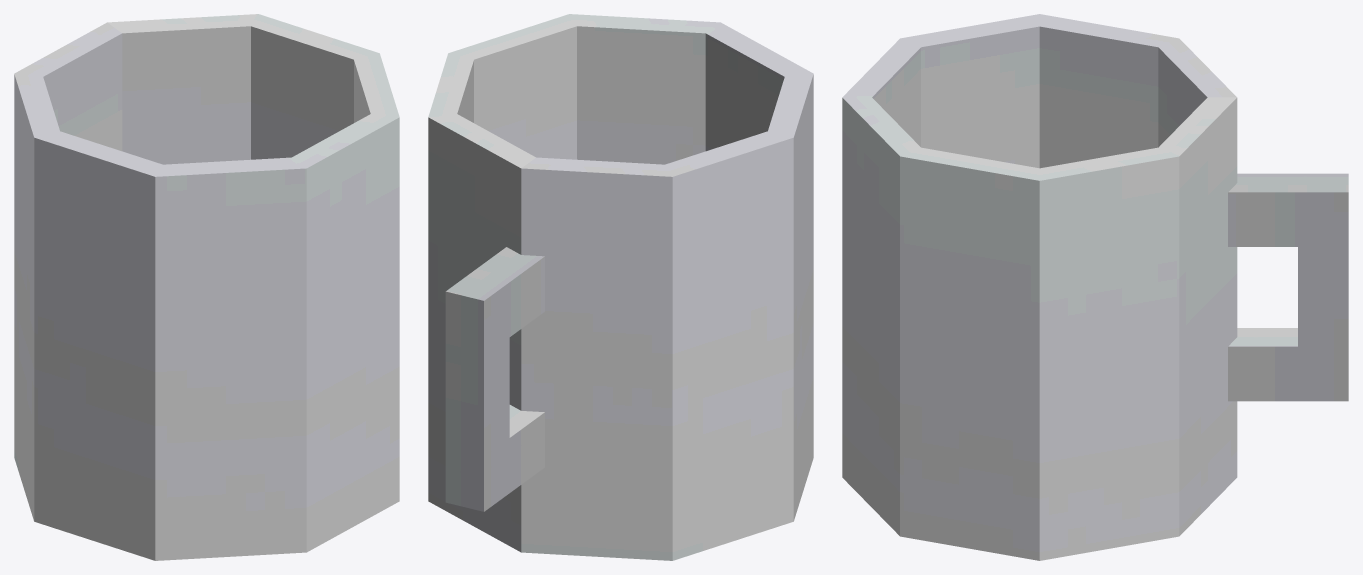
The model's file is cup.glb.
The picture shows the model from 3 angles, left to right: view 1: azimuth 30°, elevation 25°; view 2: azimuth 150°, elevation 25°; view 3: azimuth 270°, elevation 25°; orthographic projection.
Visible parts, largest first — view 1: cup; view 2: cup; view 3: cup.
Boxes of the visible parts, x1=… form: cup: x1=14, y1=14, x2=399, y2=560; cup: x1=428, y1=14, x2=813, y2=560; cup: x1=842, y1=14, x2=1348, y2=560.
Size of the model in its own units: 0.1154 by 0.1226 by 0.148.
1 material, 1 textured.
